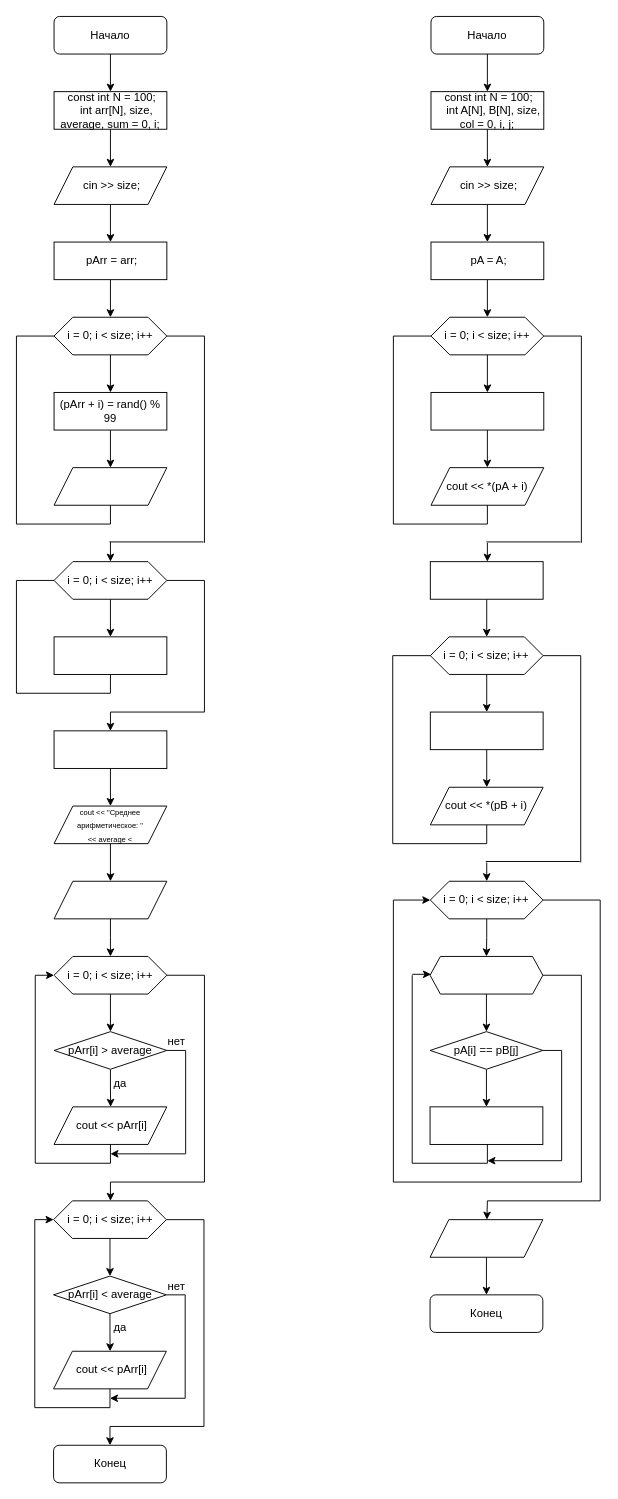
Some shapes in this 618 by 1499 pixel diagram are drawn without their labels. The box of each missing label's shape, as (x1, y1, x2, y2) in pixels:
(pA + i) = rand() % 99: (430, 392, 544, 430)
(pB + i) = rand() % 99: (429, 711, 543, 750)
average = sum / 5: (53, 730, 167, 768)
col++: (429, 1106, 543, 1144)
cout << "Больше среднего арифметического: ";: (53, 880, 167, 919)
cout << *(pArr + i)<<"\t": (53, 467, 167, 505)
cout<< "Колличество пар элементов: ": (429, 1219, 543, 1257)
j = 0; j < size; j++: (429, 956, 543, 994)
pB = B;: (429, 561, 543, 599)
sum += pArr[i]: (53, 636, 167, 674)
